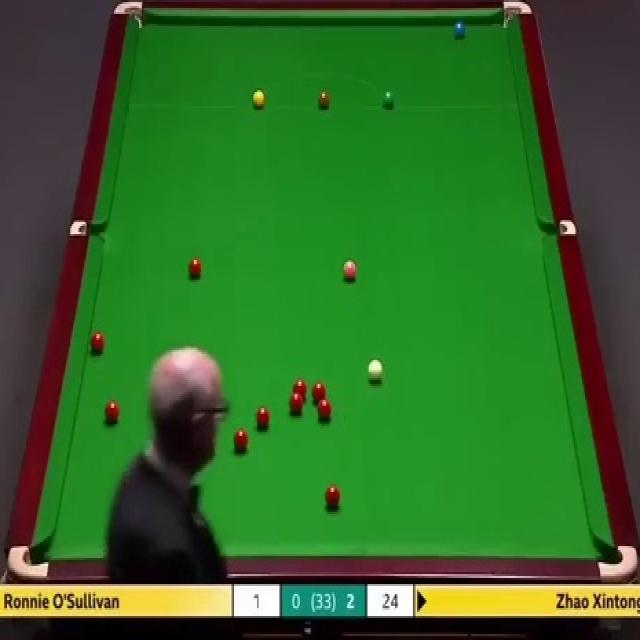pocket: (597, 540, 640, 583), (6, 542, 48, 580), (500, 0, 534, 32), (110, 0, 144, 28), (68, 220, 105, 240), (540, 222, 577, 238)
